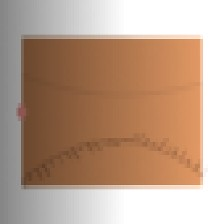hemorrhage_spot: (69, 74, 130, 123)
